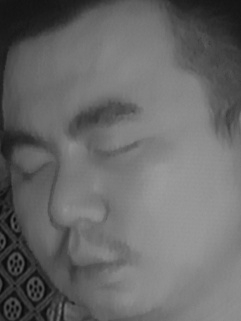blink: (91, 131, 141, 167), (14, 152, 55, 187)
mouth: (58, 235, 128, 287)
